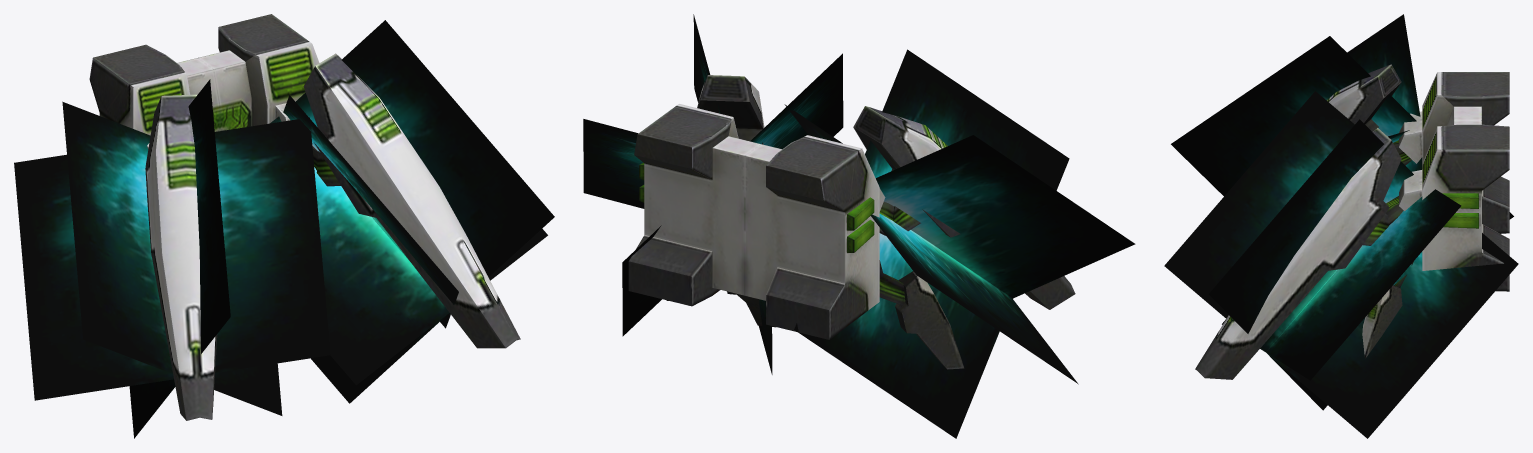
The model's file is ArmorBag_15.obj.
3 renders of one model, left to right at view 1: azimuth 30°, elevation 25°; view 2: azimuth 150°, elevation 25°; view 3: azimuth 270°, elevation 25°, orthographic. The views are drawn at different scales.
Parts seen in each view (by area): view 1: ArmorBag_15_06_objBox01, ArmorBag_15_01_max_plane, ArmorBag_15_00_max_plane, ArmorBag_15_05_max_plane, ArmorBag_15_04_max_plane, ArmorBag_15_02_max_plane, ArmorBag_15_03_max_plane; view 2: ArmorBag_15_06_objBox01, ArmorBag_15_02_max_plane, ArmorBag_15_00_max_plane, ArmorBag_15_01_max_plane, ArmorBag_15_03_max_plane, ArmorBag_15_04_max_plane, ArmorBag_15_05_max_plane; view 3: ArmorBag_15_06_objBox01, ArmorBag_15_03_max_plane, ArmorBag_15_02_max_plane, ArmorBag_15_04_max_plane, ArmorBag_15_05_max_plane, ArmorBag_15_00_max_plane.
Part boxes in pixels (<box>): ArmorBag_15_06_objBox01: <box>89,14,520,420</box>; ArmorBag_15_01_max_plane: <box>14,117,330,400</box>; ArmorBag_15_00_max_plane: <box>62,101,282,415</box>; ArmorBag_15_05_max_plane: <box>295,20,554,403</box>; ArmorBag_15_04_max_plane: <box>270,116,547,385</box>; ArmorBag_15_02_max_plane: <box>129,79,230,438</box>; ArmorBag_15_03_max_plane: <box>283,95,458,328</box>; ArmorBag_15_06_objBox01: <box>628,75,1075,369</box>; ArmorBag_15_02_max_plane: <box>794,49,1069,438</box>; ArmorBag_15_00_max_plane: <box>876,135,1135,298</box>; ArmorBag_15_01_max_plane: <box>784,104,1078,384</box>; ArmorBag_15_03_max_plane: <box>622,53,843,336</box>; ArmorBag_15_04_max_plane: <box>583,119,644,208</box>; ArmorBag_15_05_max_plane: <box>693,14,772,374</box>; ArmorBag_15_06_objBox01: <box>1195,64,1509,379</box>; ArmorBag_15_03_max_plane: <box>1164,91,1518,438</box>; ArmorBag_15_02_max_plane: <box>1171,36,1513,219</box>; ArmorBag_15_04_max_plane: <box>1222,189,1461,380</box>; ArmorBag_15_05_max_plane: <box>1208,119,1413,410</box>; ArmorBag_15_00_max_plane: <box>1347,14,1422,171</box>.
Size of the model in its own units: 1.53 by 1.04 by 1.05.
7 materials, 7 textured.
